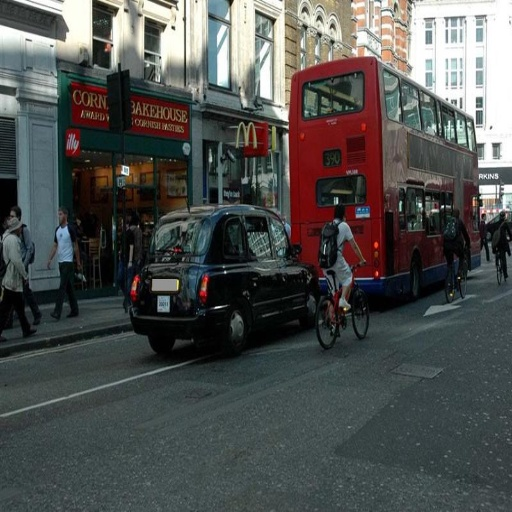back_bumper: (141, 263, 238, 321)
trunk: (146, 238, 209, 292)
